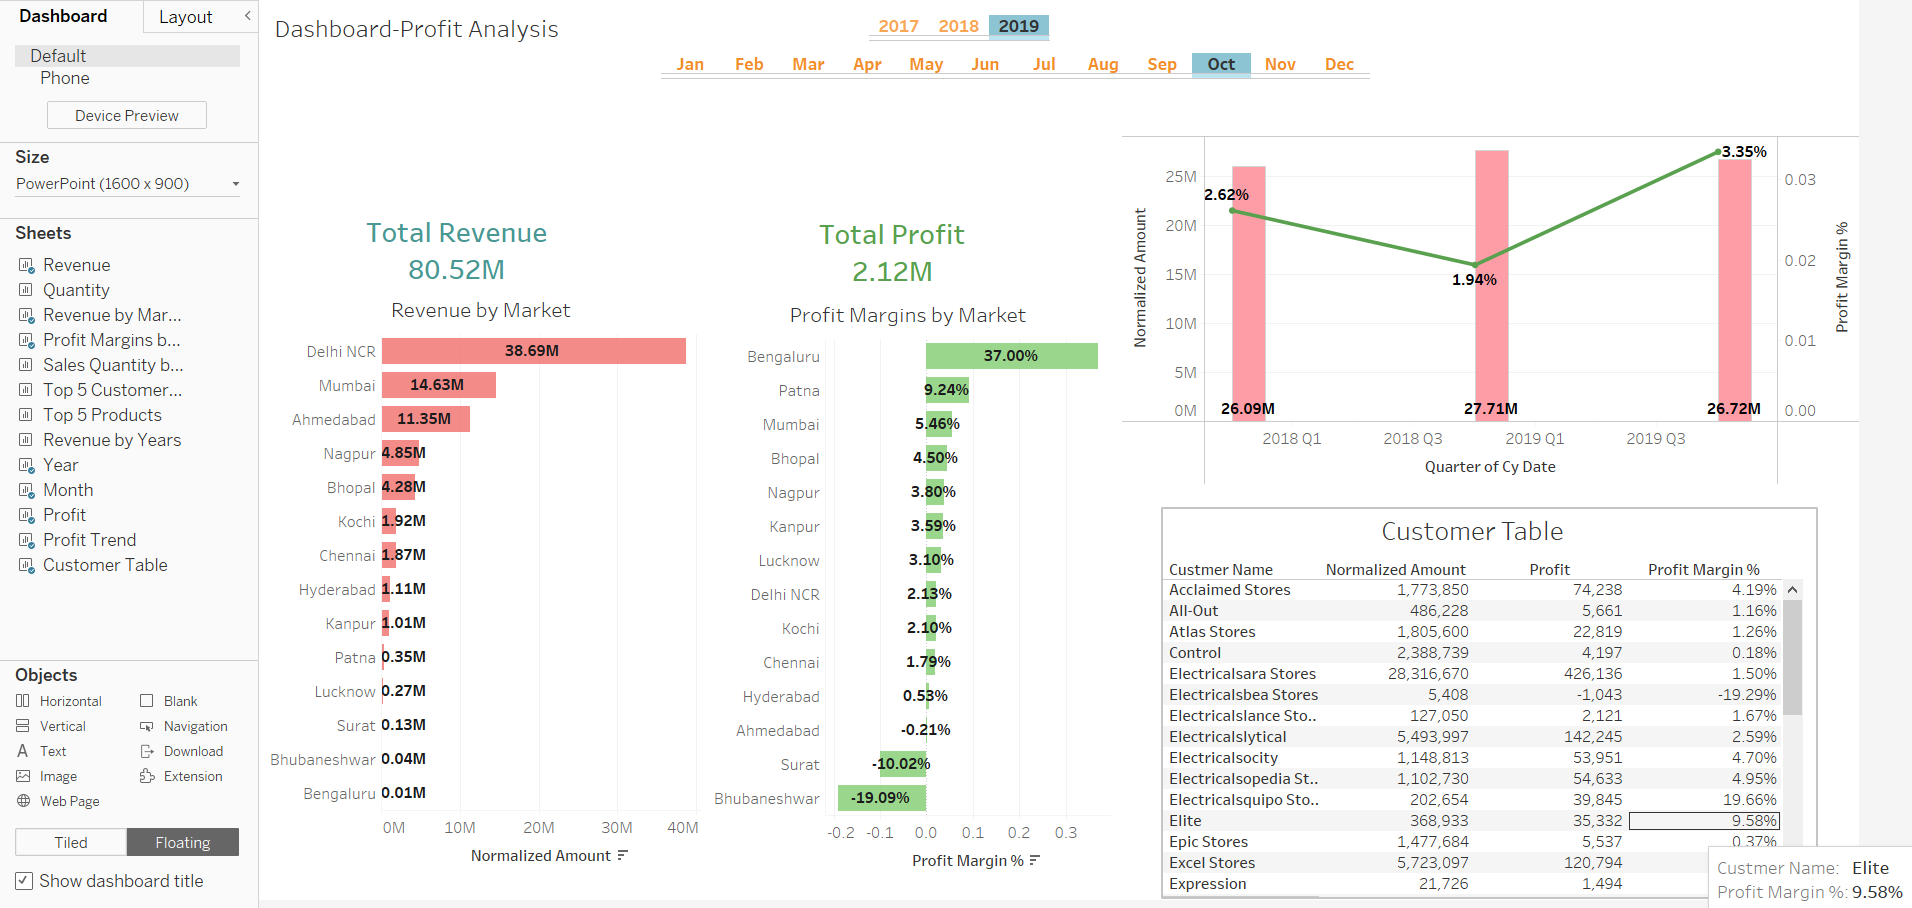

The page's visual inventory and layout, read from the dashboard file:
{"tool":"tableau","page":{"name":"Dashboard-Profit Analysis","canvas":[1600,900],"ordinal":0},"visuals":[{"type":"worksheet","title":"Year","mark":"Automatic","cols":["cy_date"],"box":[610,15,241,50]},{"type":"worksheet","title":"Month","mark":"Automatic","cols":["cy_date"],"box":[402,53,721,40]},{"type":"worksheet","title":"Profit Trend","mark":"Bar","rows":["Calculation_1045398112552312832","Calculation_126382313844473858"],"cols":["cy_date"],"box":[863,136,738,349]},{"type":"worksheet","title":"Revenue","mark":"Automatic","box":[98,213,227,102]},{"type":"worksheet","title":"Profit","mark":"Automatic","box":[554,215,162,81]},{"type":"worksheet","title":"Revenue by Market","mark":"Automatic","rows":["markets_name"],"cols":["Calculation_1045398112552312832"],"box":[2,291,440,606]},{"type":"worksheet","title":"Profit Margins by Market","mark":"Automatic","rows":["markets_name"],"cols":["Calculation_126382313844473858"],"box":[446,296,406,602]},{"type":"worksheet","title":"Customer Table","mark":"Automatic","rows":["custmer_name"],"box":[904,509,653,388]}]}

Visuals, with their boxes on the page's 1600x900 design canvas (x1, y1, x2, y2). These are canvas units, not pixel positions in the 1912x908 screenshot, which may show the page scaled, cropped or inside an application window:
"Year" worksheet: [x1=610, y1=15, x2=851, y2=65]
"Month" worksheet: [x1=402, y1=53, x2=1123, y2=93]
"Profit Trend" worksheet (Bar marks): [x1=863, y1=136, x2=1601, y2=485]
"Revenue" worksheet: [x1=98, y1=213, x2=325, y2=315]
"Profit" worksheet: [x1=554, y1=215, x2=716, y2=296]
"Revenue by Market" worksheet: [x1=2, y1=291, x2=442, y2=897]
"Profit Margins by Market" worksheet: [x1=446, y1=296, x2=852, y2=898]
"Customer Table" worksheet: [x1=904, y1=509, x2=1557, y2=897]
